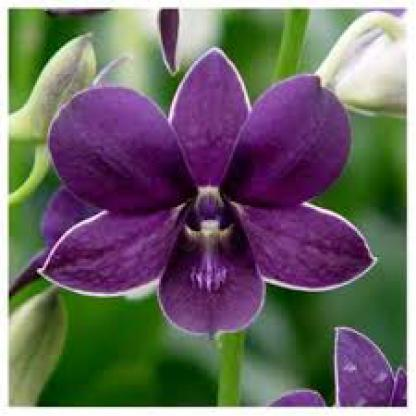ANGGREK: (31, 33, 386, 386)
